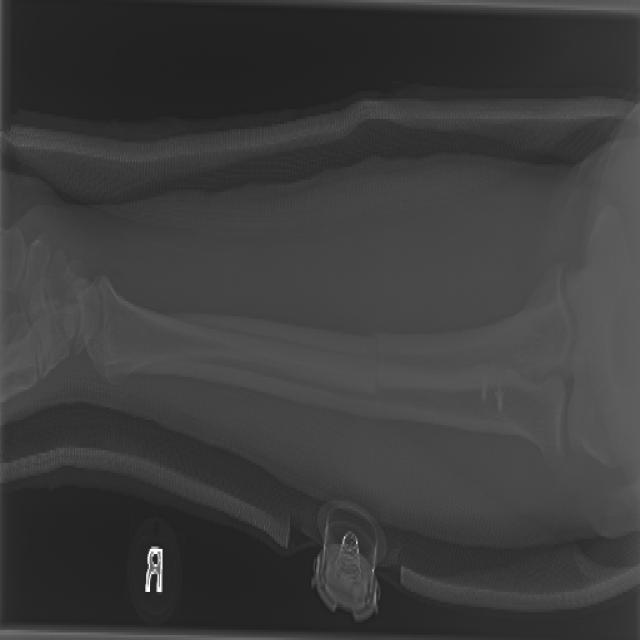forearm fracture: (354, 302, 400, 411)
